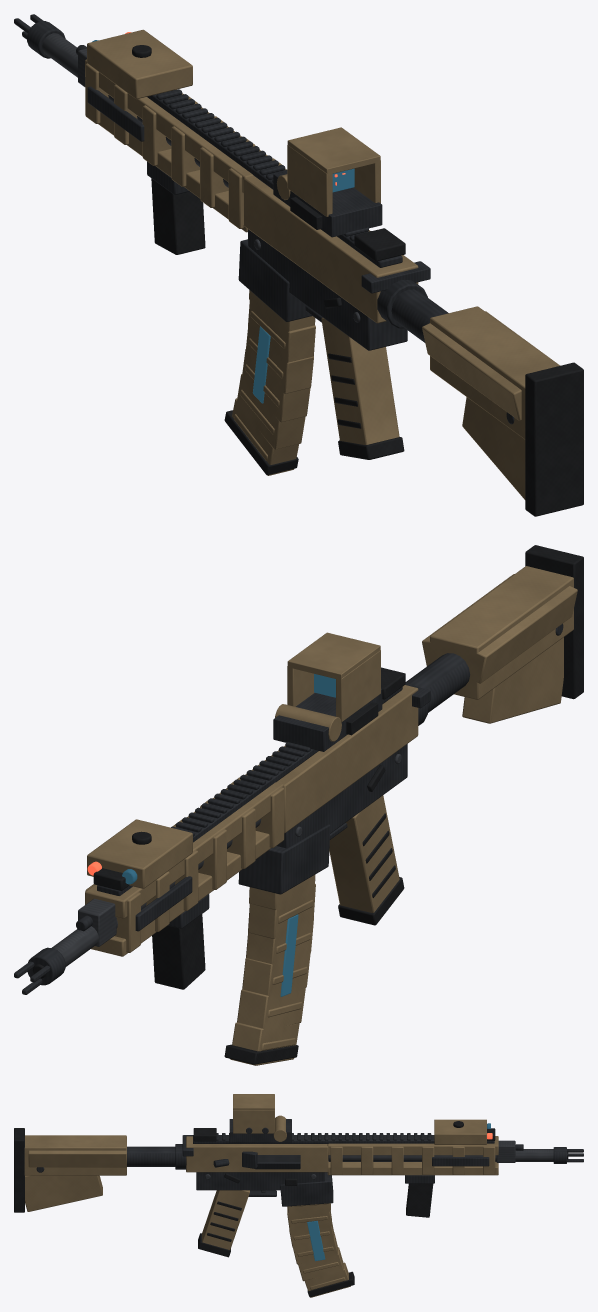
Rendered from WPN_AssaultRifle_M5A3.glb.
3 renders of one model, top to bottom at view 1: azimuth 30°, elevation 25°; view 2: azimuth 150°, elevation 25°; view 3: azimuth 270°, elevation 25°, orthographic. The views are drawn at different scales.
Parts seen in each view (by area): view 1: WPN_M5A3_Body, WPN_M5A3_Magazine, WPN_M5A3_OpticHolo, WPN_M5A3_ChargingHandle; view 2: WPN_M5A3_Body, WPN_M5A3_Magazine, WPN_M5A3_OpticHolo; view 3: WPN_M5A3_Body, WPN_M5A3_Magazine, WPN_M5A3_OpticHolo, WPN_M5A3_BoltCarrier.
Boxes of the visible parts, x1,y1,x2,y2 form: WPN_M5A3_Body: (14,14,583,516); WPN_M5A3_Magazine: (224,290,315,475); WPN_M5A3_OpticHolo: (273,127,382,237); WPN_M5A3_ChargingHandle: (361,261,430,293); WPN_M5A3_Body: (14,545,583,994); WPN_M5A3_Magazine: (224,875,315,1065); WPN_M5A3_OpticHolo: (273,632,382,751); WPN_M5A3_Body: (14,1119,583,1257); WPN_M5A3_Magazine: (287,1203,354,1297); WPN_M5A3_OpticHolo: (229,1094,291,1142); WPN_M5A3_BoltCarrier: (257,1155,300,1162).
Bounding box in the file's own units: 0.0599 × 0.3151 × 0.841.
Materials: 6 (6 with a texture image).
